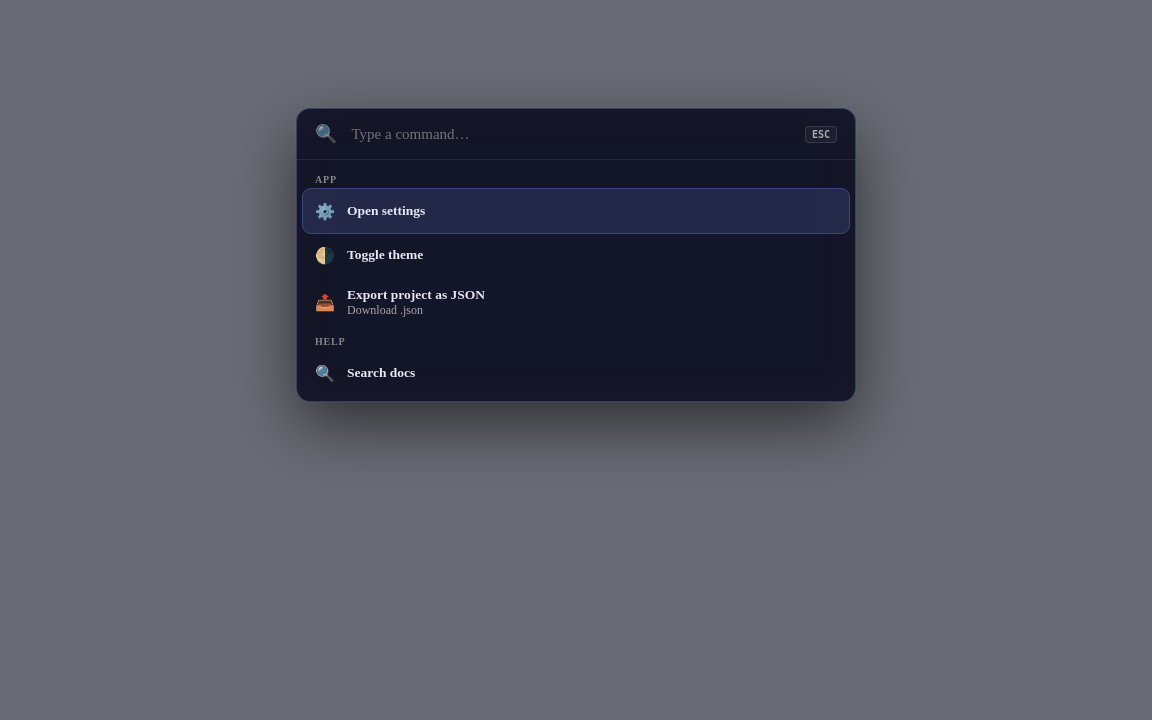
Test: TkxCommandPalette › filters commands as the user types
Step 1. Type "sett" into the dropdown with test id "cmdk-input" → (571,134), box x1=350 y1=124 x2=793 y2=144
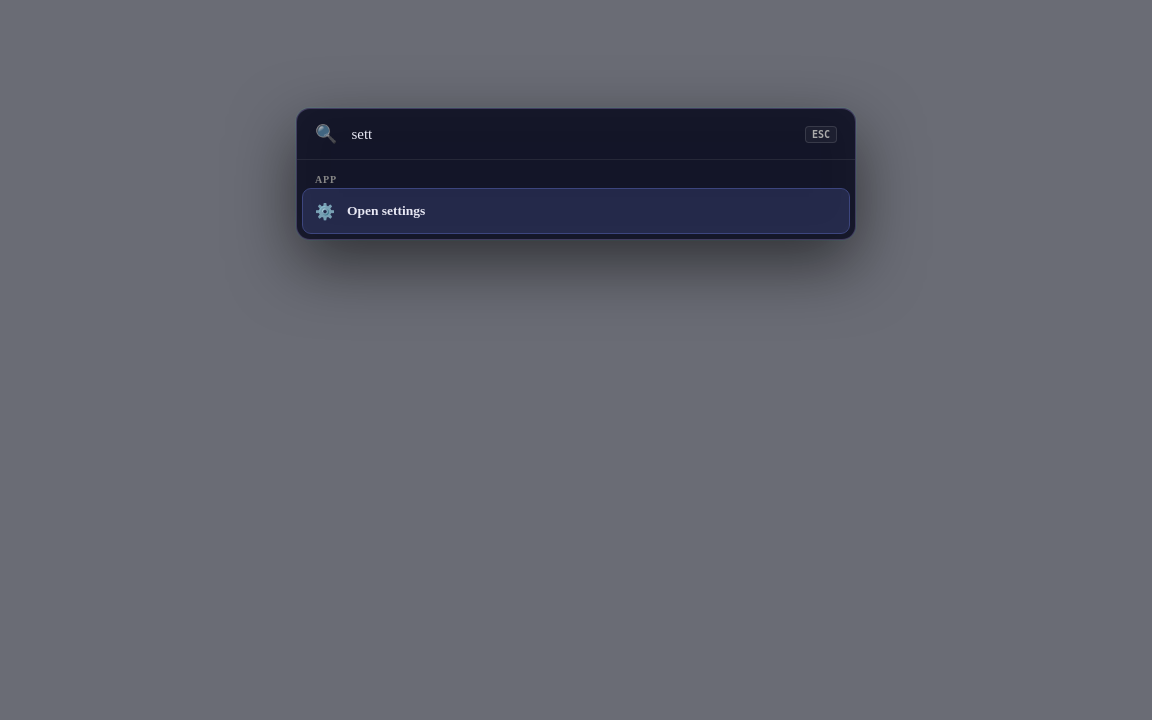
expect the option with test id "cmdk-item-open-settings" is shown: met, box x1=303 y1=189 x2=849 y2=233
expect the option with test id "cmdk-item-search-docs" is gone: met
